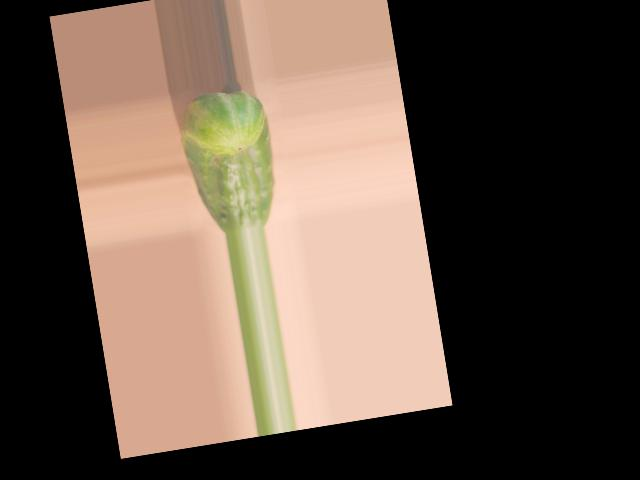cucumber: (175, 85, 285, 237)
